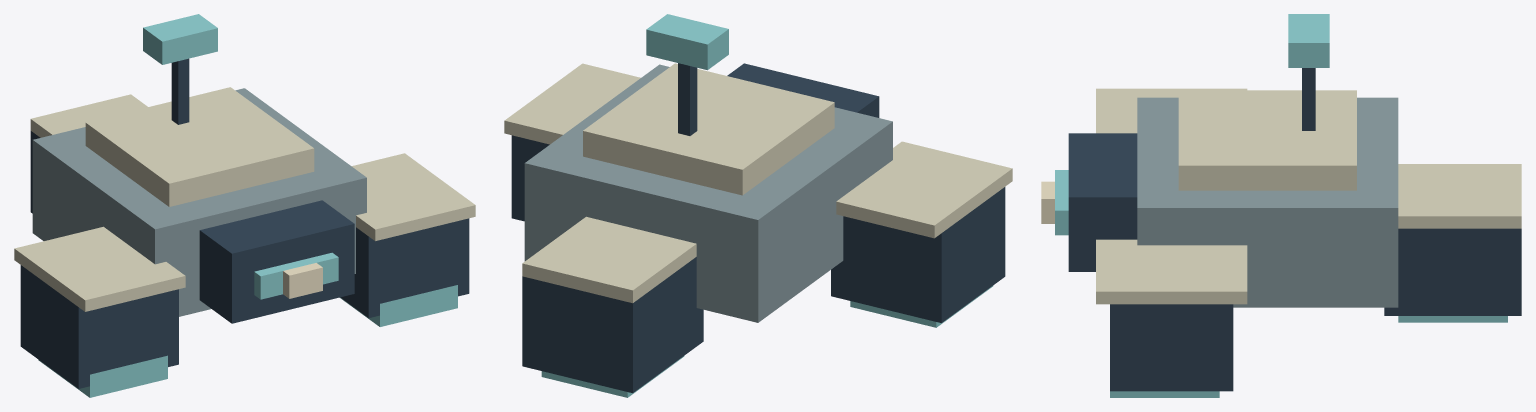
File: survey_drone.glb
3 renders of one model, left to right at view 1: azimuth 30°, elevation 25°; view 2: azimuth 150°, elevation 25°; view 3: azimuth 270°, elevation 25°, orthographic. The views are drawn at different scales.
Parts seen in each view (by area): view 1: survey_drone/central_hull, survey_drone/thruster_1, survey_drone/thruster_2, survey_drone/sensor, survey_drone/top_antenna, survey_drone/thruster_0; view 2: survey_drone/central_hull, survey_drone/thruster_0, survey_drone/thruster_1, survey_drone/thruster_2, survey_drone/top_antenna, survey_drone/sensor; view 3: survey_drone/central_hull, survey_drone/thruster_2, survey_drone/thruster_0, survey_drone/sensor, survey_drone/top_antenna, survey_drone/thruster_1.
Part boxes in pixels (x1,y1,x2,y2): survey_drone/central_hull: (32, 87, 366, 316); survey_drone/thruster_1: (14, 226, 185, 397); survey_drone/thruster_2: (340, 153, 475, 326); survey_drone/sensor: (199, 200, 354, 323); survey_drone/top_antenna: (143, 14, 217, 124); survey_drone/thruster_0: (30, 94, 147, 213); survey_drone/central_hull: (524, 63, 892, 322); survey_drone/thruster_0: (522, 216, 703, 397); survey_drone/thruster_1: (831, 141, 1012, 327); survey_drone/thruster_2: (504, 63, 640, 221); survey_drone/top_antenna: (646, 14, 728, 135); survey_drone/sensor: (727, 63, 879, 117); survey_drone/central_hull: (1137, 90, 1398, 307); survey_drone/thruster_2: (1096, 239, 1247, 397); survey_drone/thruster_0: (1384, 164, 1521, 322); survey_drone/sensor: (1041, 133, 1137, 271); survey_drone/top_antenna: (1288, 14, 1329, 130); survey_drone/thruster_1: (1096, 88, 1247, 133).
Bounding box in the file's own units: 1.09 × 0.6875 × 1.09.
